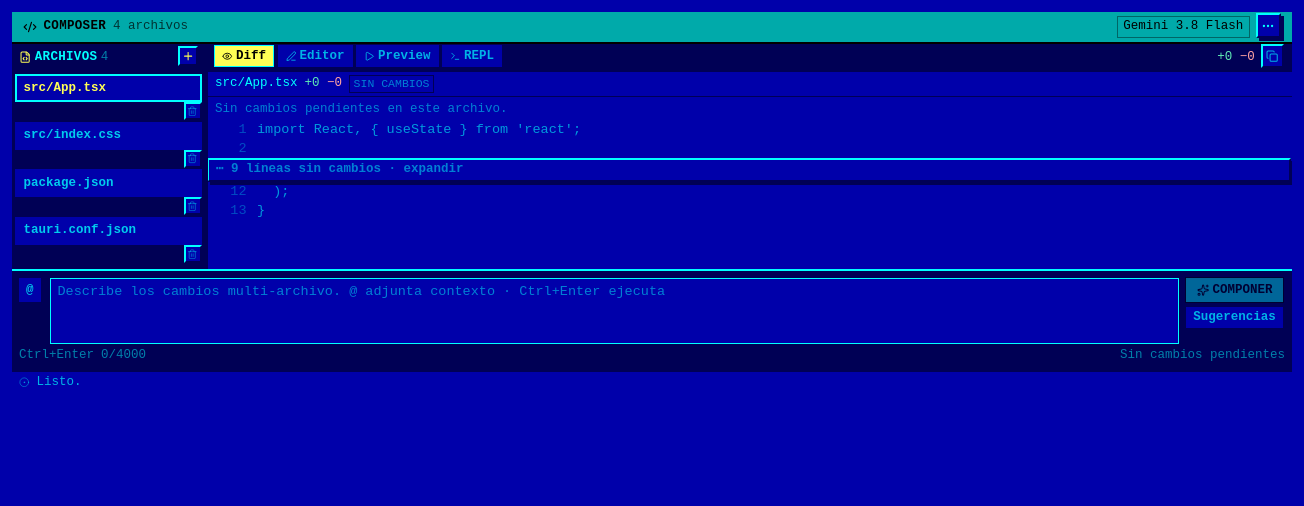
Scenario: ComposerPlayground › componer trae diffs, los marca como pendientes y aceptar los limpia
Replace the text in the text box with test id "composer-prompt" with "añade una constante": [614, 311] box x1=50 y1=278 x2=1179 y2=344
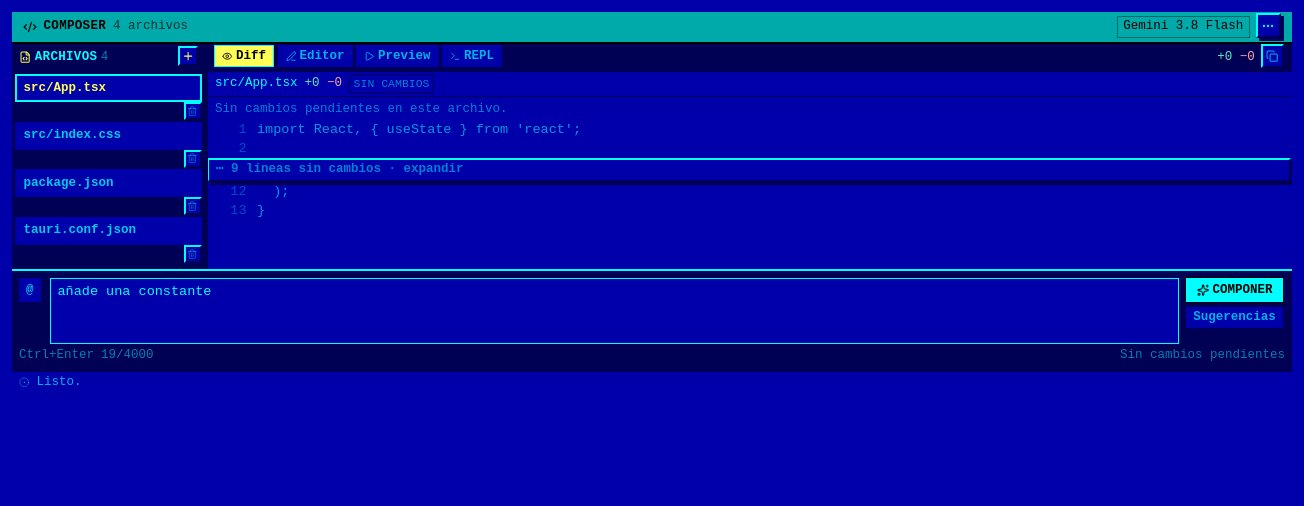
Click the button with test id "composer-run": [1235, 290] box x1=1185 y1=277 x2=1284 y2=303
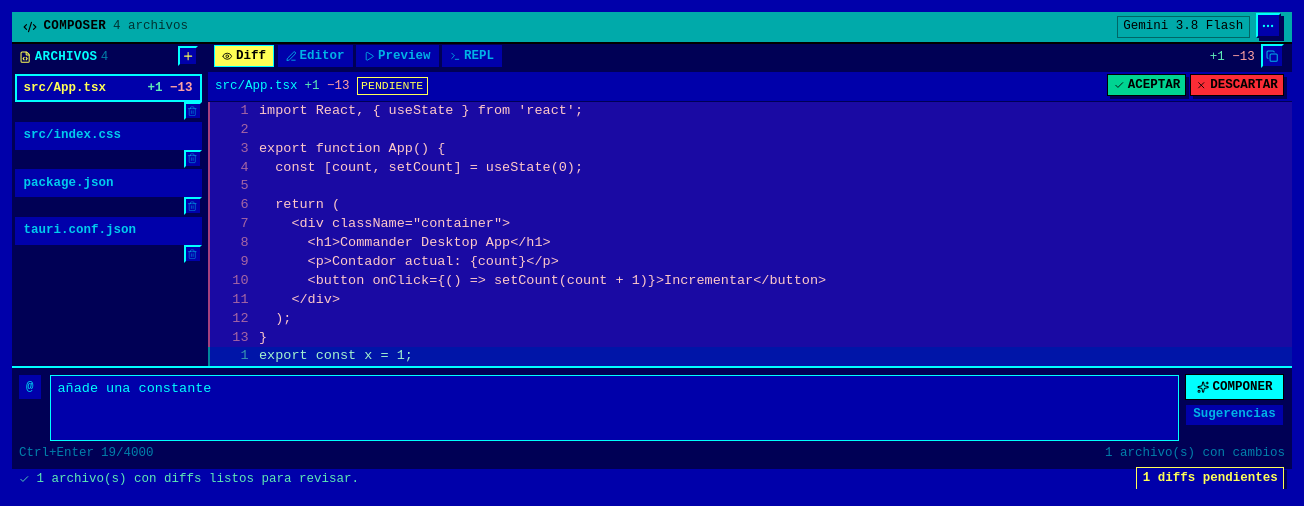
Expected: the button with test id "composer-pending" shows "1", x1=1136 y1=467 x2=1284 y2=489
Expected: the text "PENDIENTE" is shown, x1=357 y1=77 x2=428 y2=95
Click the button with test id "composer-accept": [1147, 85] box x1=1108 y1=74 x2=1186 y2=96
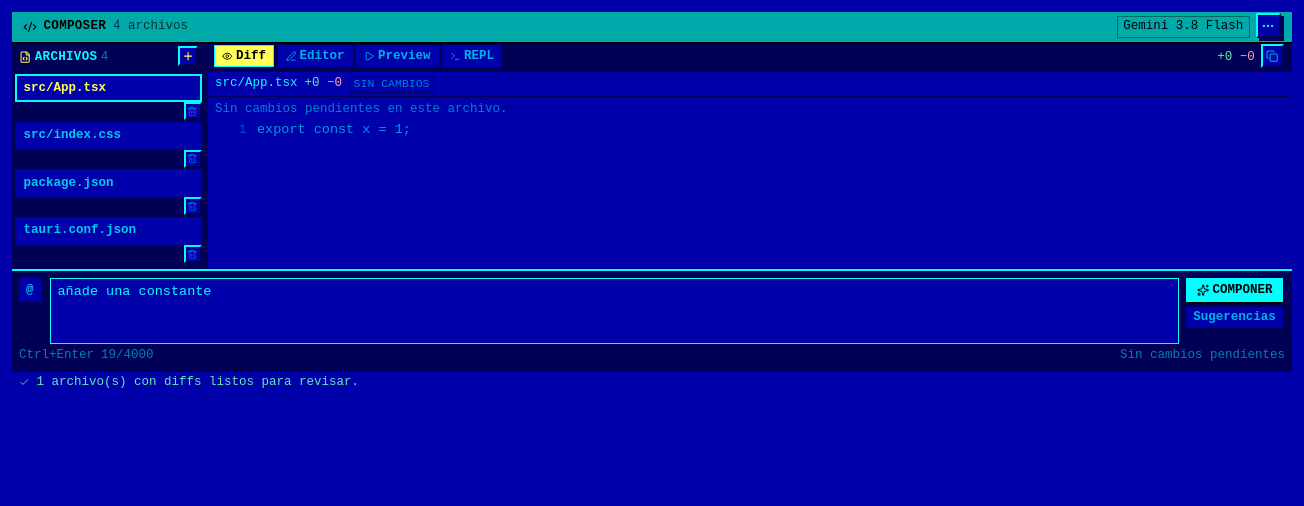
Expected: the button with test id "composer-pending" is gone
